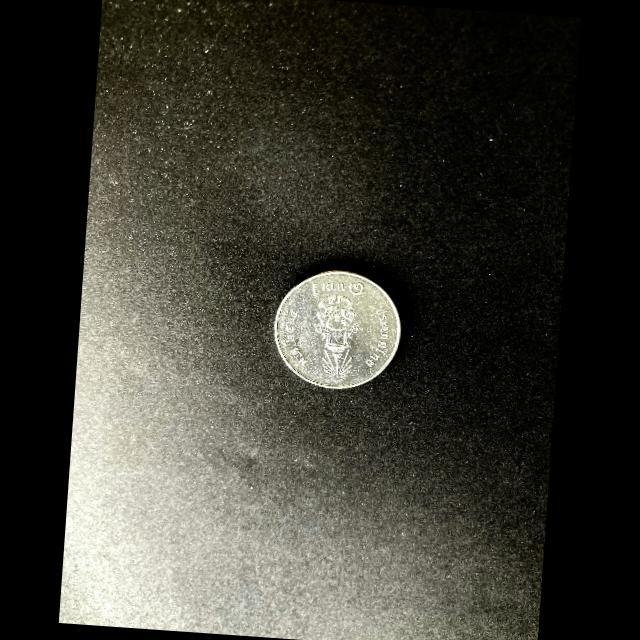1 Bath: (273, 268, 405, 394)
